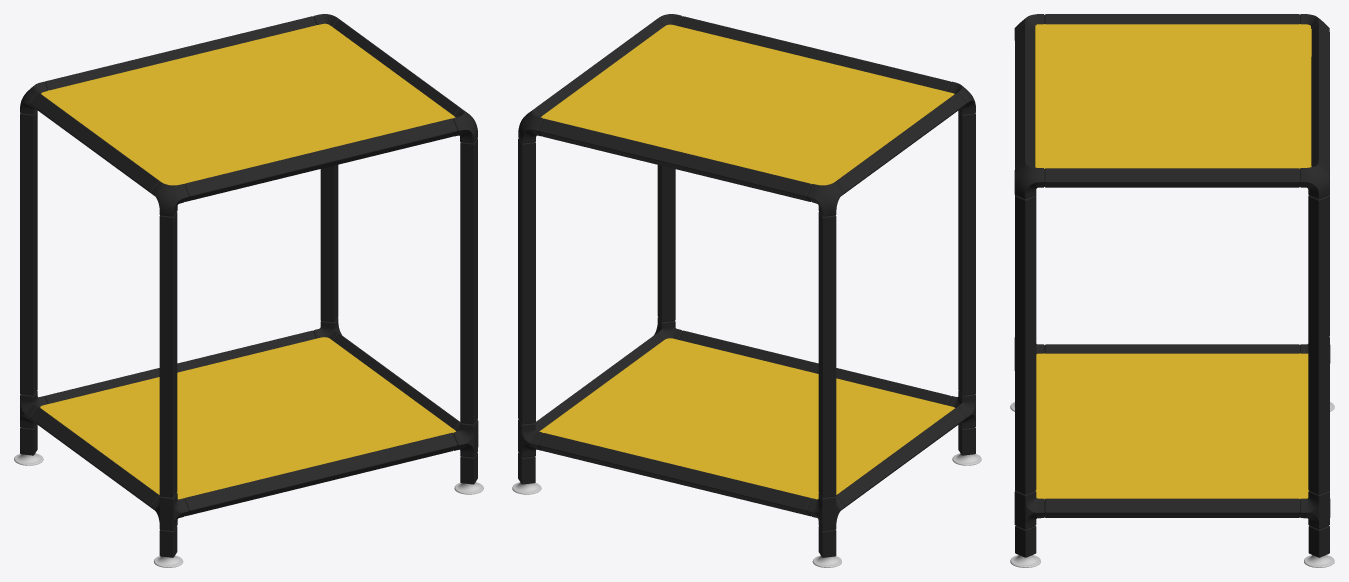
3 views of the same model, side by side, from view 1: azimuth 30°, elevation 25°; view 2: azimuth 150°, elevation 25°; view 3: azimuth 270°, elevation 25° (orthographic). The views are drawn at different scales.
Visible parts, largest first — view 1: 420x329x420; view 2: 420x329x420; view 3: 420x329x420.
Boxes of the visible parts, x1,y1,x2,y2 form: 420x329x420: (14, 14, 483, 567); 420x329x420: (512, 14, 981, 567); 420x329x420: (1010, 14, 1334, 567).
Size of the model in its own units: 0.5099 by 0.5593 by 0.4182.
